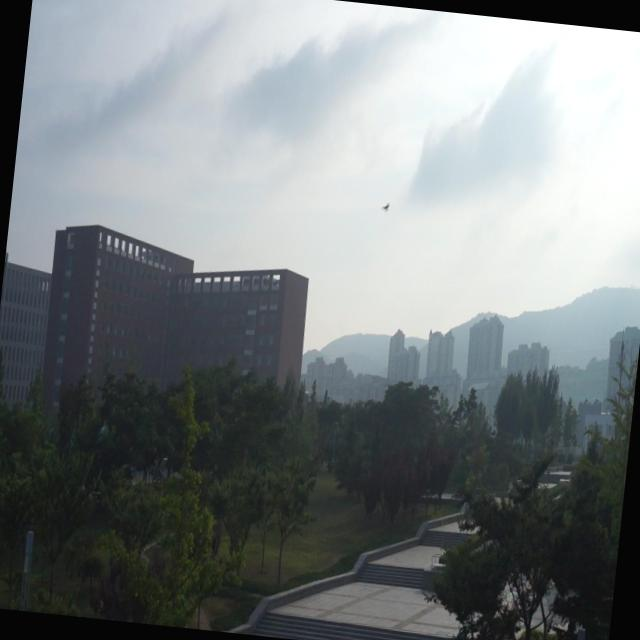drone: (380, 196, 392, 214)
